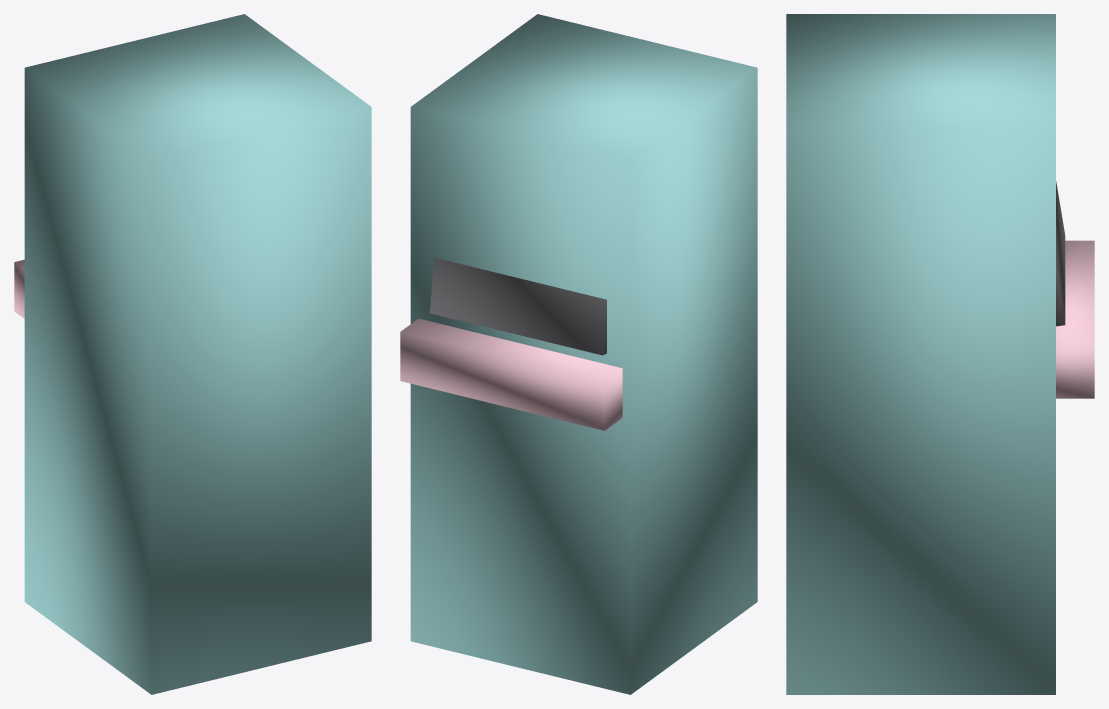
File: arcade_center_lv1.glb
The picture shows the model from 3 angles, left to right: view 1: azimuth 30°, elevation 25°; view 2: azimuth 150°, elevation 25°; view 3: azimuth 270°, elevation 25°; orthographic projection. The views are drawn at different scales.
Parts seen in each view (by area): view 1: cab1_body, cab1_controls; view 2: cab1_body, cab1_controls, cab1_screen; view 3: cab1_body, cab1_controls, cab1_screen.
Part boxes in pixels (left/top/right/bottom): cab1_body: left=24, top=14, right=371, bottom=694; cab1_controls: left=14, top=259, right=24, bottom=318; cab1_body: left=410, top=14, right=757, bottom=694; cab1_controls: left=400, top=318, right=622, bottom=430; cab1_screen: left=430, top=257, right=606, bottom=355; cab1_body: left=786, top=14, right=1055, bottom=694; cab1_controls: left=1056, top=240, right=1094, bottom=398; cab1_screen: left=1056, top=181, right=1065, bottom=326.
Bounding box in the file's own units: 0.28 × 0.65 × 0.32.
